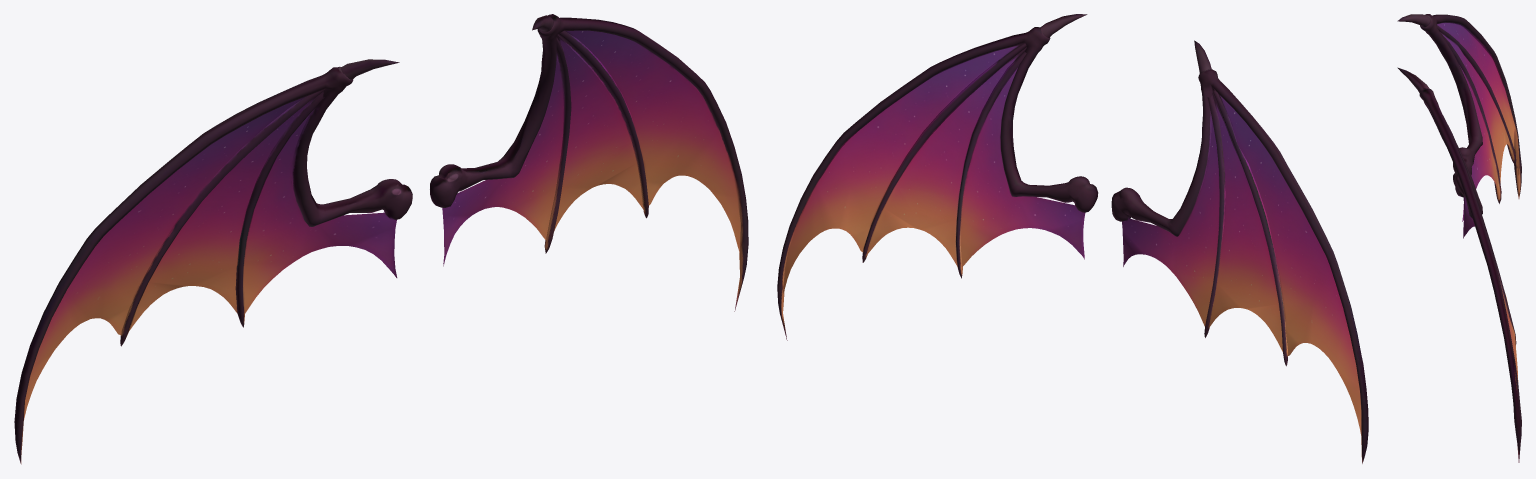
The model's file is succubus_wings_v1_tex.fbx.
3 renders of one model, left to right at view 1: azimuth 30°, elevation 25°; view 2: azimuth 150°, elevation 25°; view 3: azimuth 270°, elevation 25°, orthographic. The views are drawn at different scales.
Parts seen in each view (by area): view 1: tripo_1155bbb9_5abd_4cb1_8f3c_fb327ec11a76; view 2: tripo_1155bbb9_5abd_4cb1_8f3c_fb327ec11a76; view 3: tripo_1155bbb9_5abd_4cb1_8f3c_fb327ec11a76.
Boxes of the visible parts, box(x1,y1,x2,y2) form: tripo_1155bbb9_5abd_4cb1_8f3c_fb327ec11a76: box(14, 14, 748, 464); tripo_1155bbb9_5abd_4cb1_8f3c_fb327ec11a76: box(777, 14, 1368, 463); tripo_1155bbb9_5abd_4cb1_8f3c_fb327ec11a76: box(1397, 14, 1521, 462).
Bounding box in the file's own units: 0.9995 × 0.5435 × 0.2065.
Materials: 1 (1 with a texture image).
